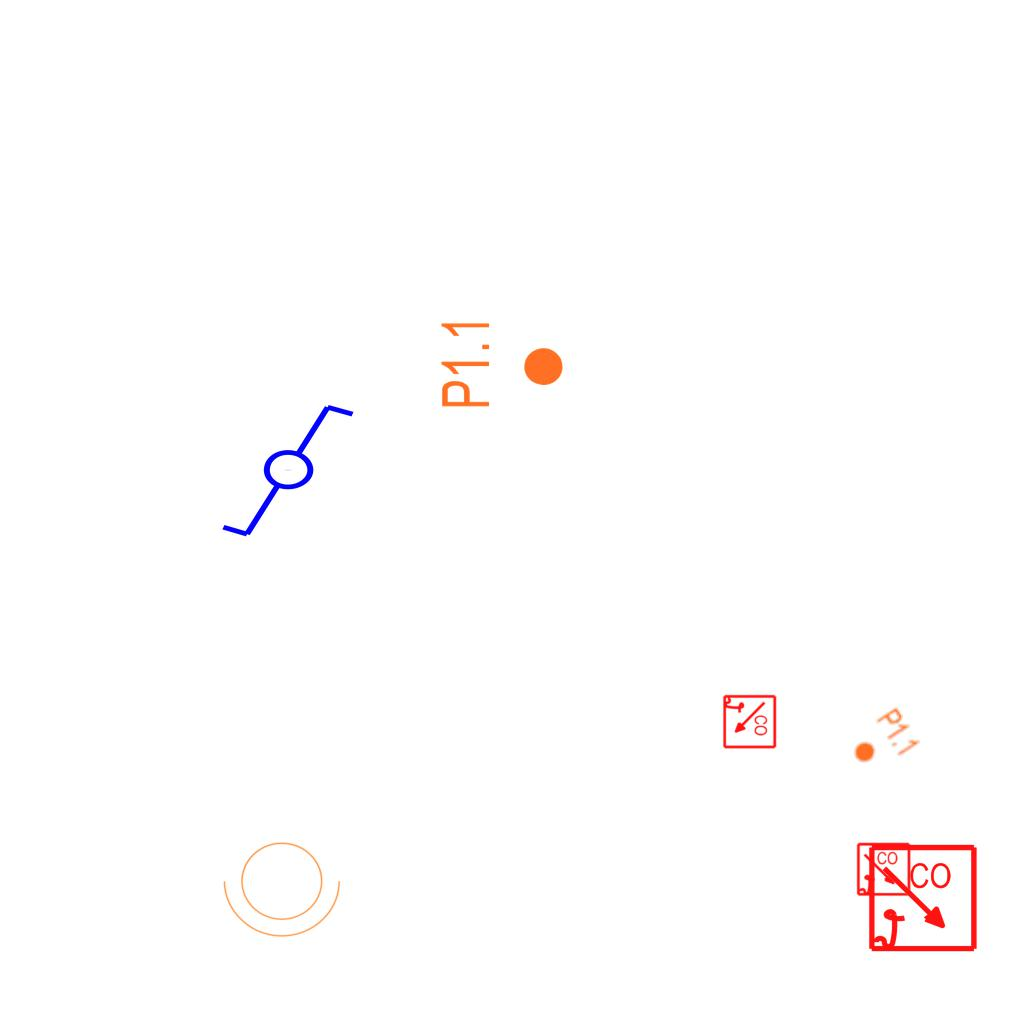Downlight_LED_Einbauleuchten_Flur: (438, 317, 566, 410), (843, 705, 923, 779)
ROA_Rauchmelder_optisch_mit_Signalgeber_(Sockelsirene): (867, 843, 980, 956), (856, 842, 912, 898), (721, 694, 777, 750)
Scheinwerfer_fuer_Alarmbeleuchtung: (219, 830, 351, 942)
Wechselschalter: (218, 400, 375, 544)
